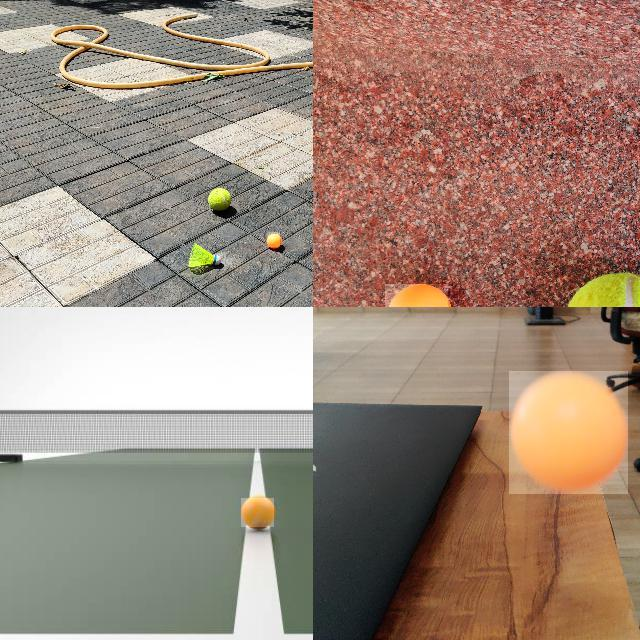ping-pong-ball: (509, 371, 629, 495), (385, 284, 450, 306), (241, 498, 275, 528), (267, 232, 281, 248)
